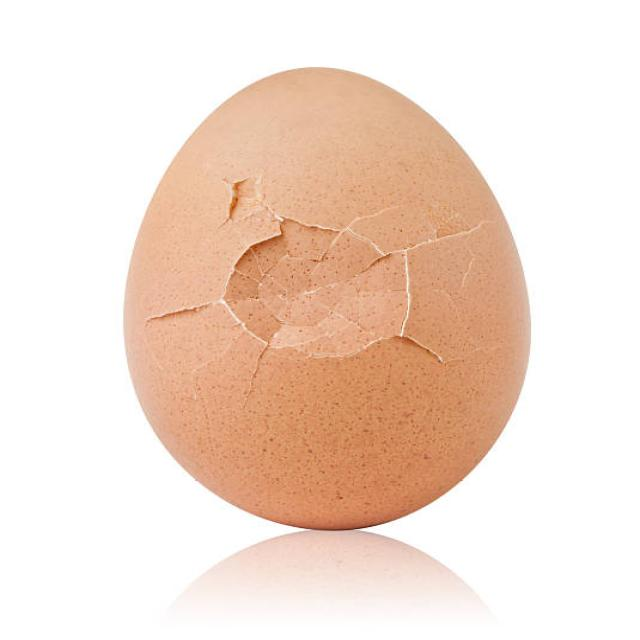Crack: (136, 157, 530, 441)
Egg: (105, 46, 551, 562)
